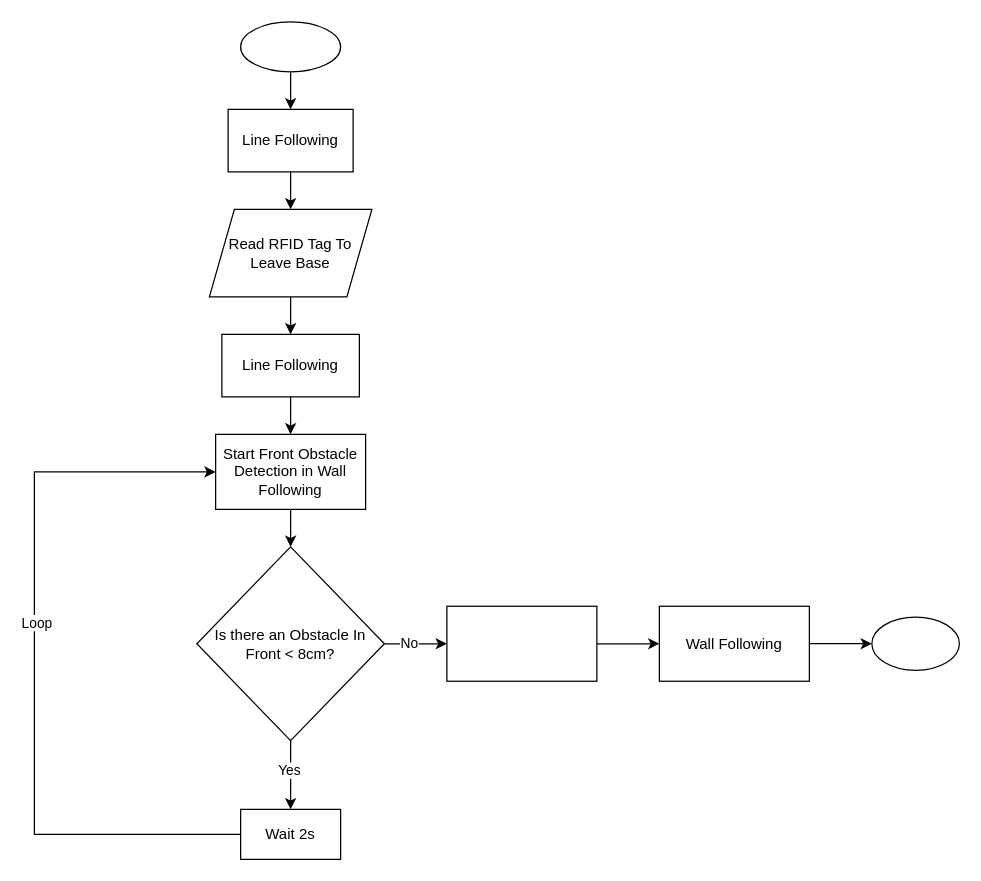
This 981x881 diagram has some shape labels left out. Each missing label, with the centre of its shape:
"End" belongs at (915,643).
"Move Forward" belongs at (521,643).
"Start" belongs at (290,46).
